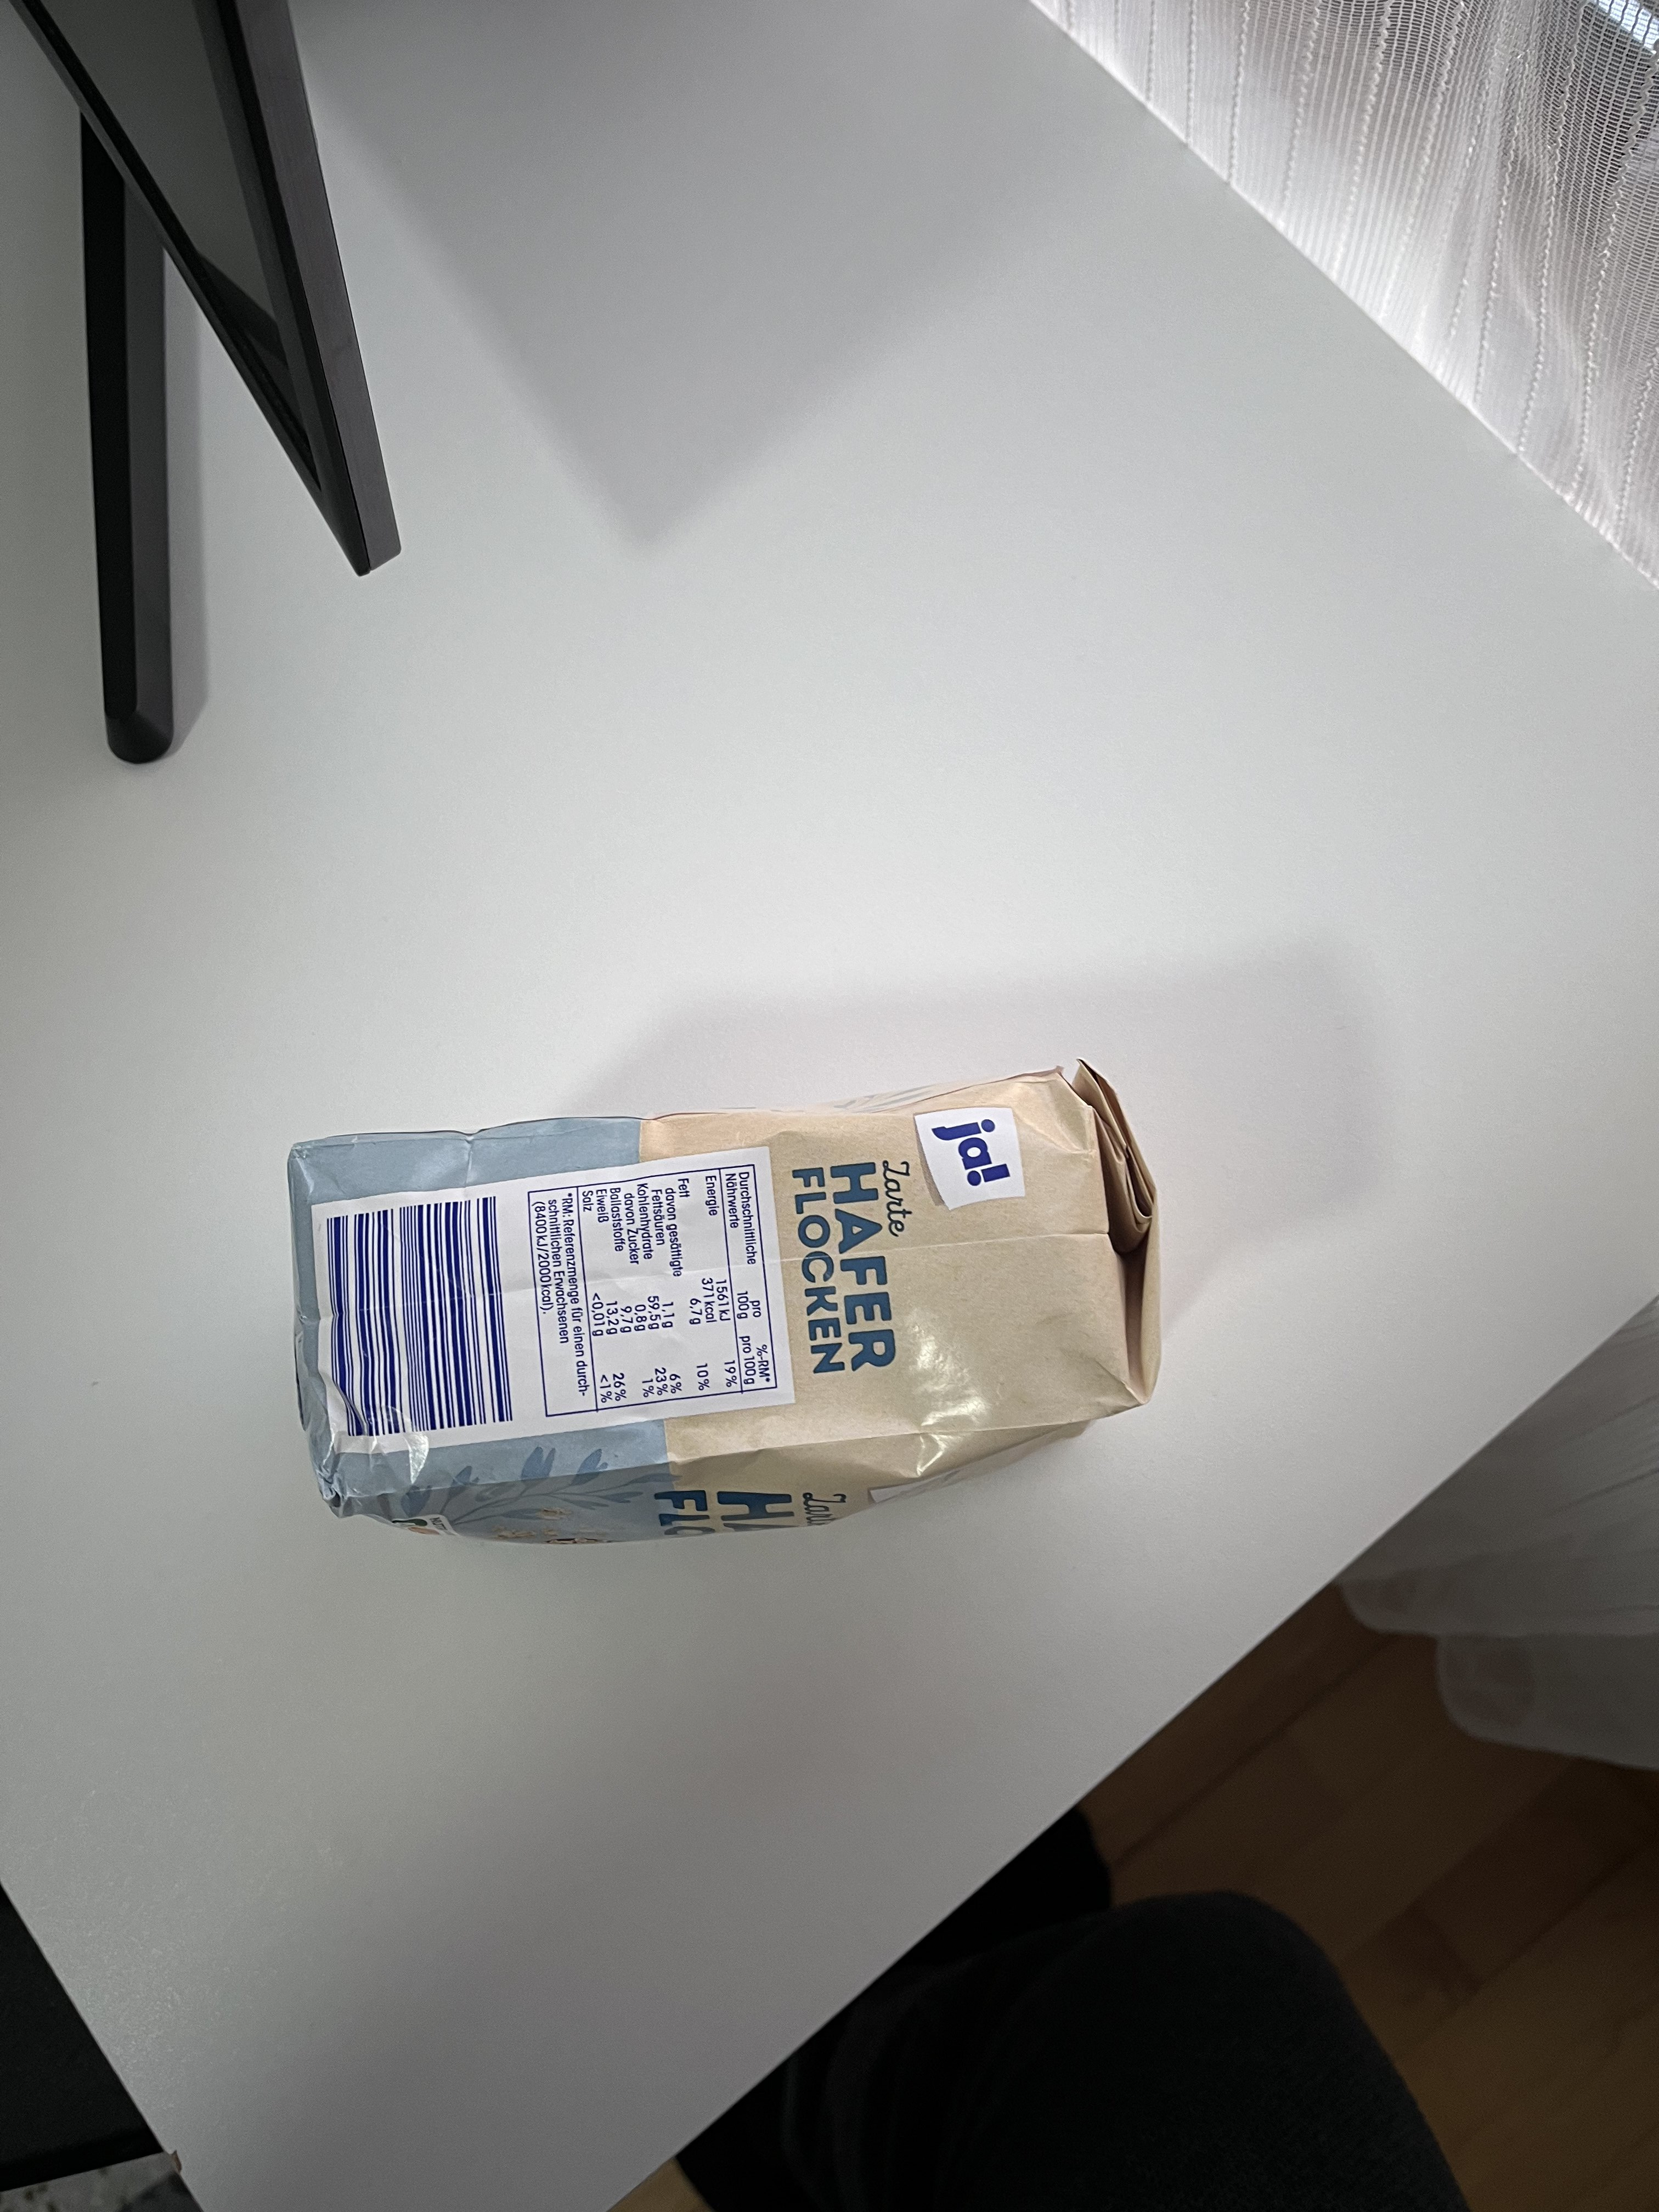haferflocken_ja: (286, 1055, 1173, 1536)
